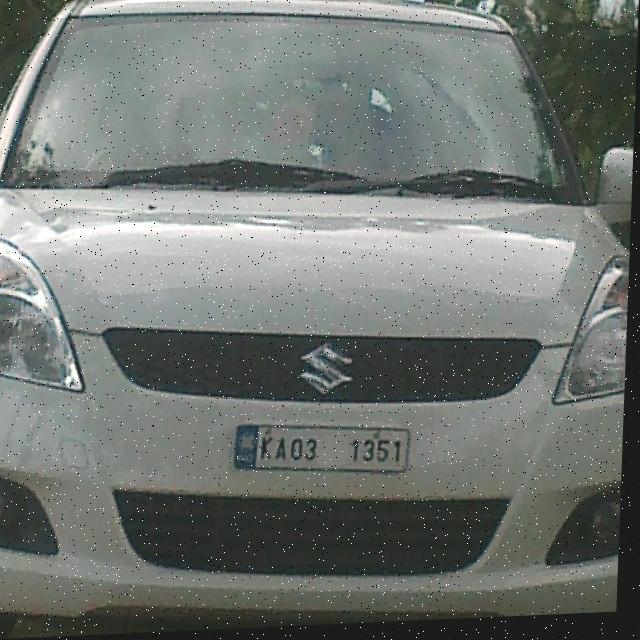plate: (240, 420, 414, 491)
